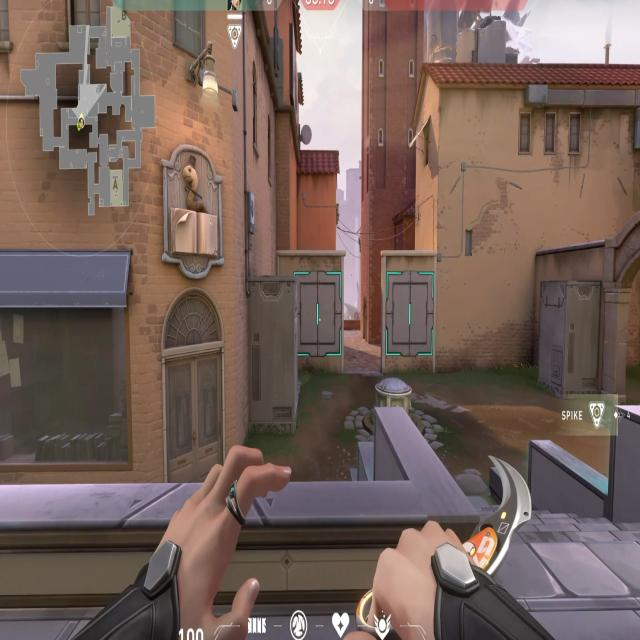Mid_Wall: (380, 255, 440, 387), (291, 250, 348, 377)
